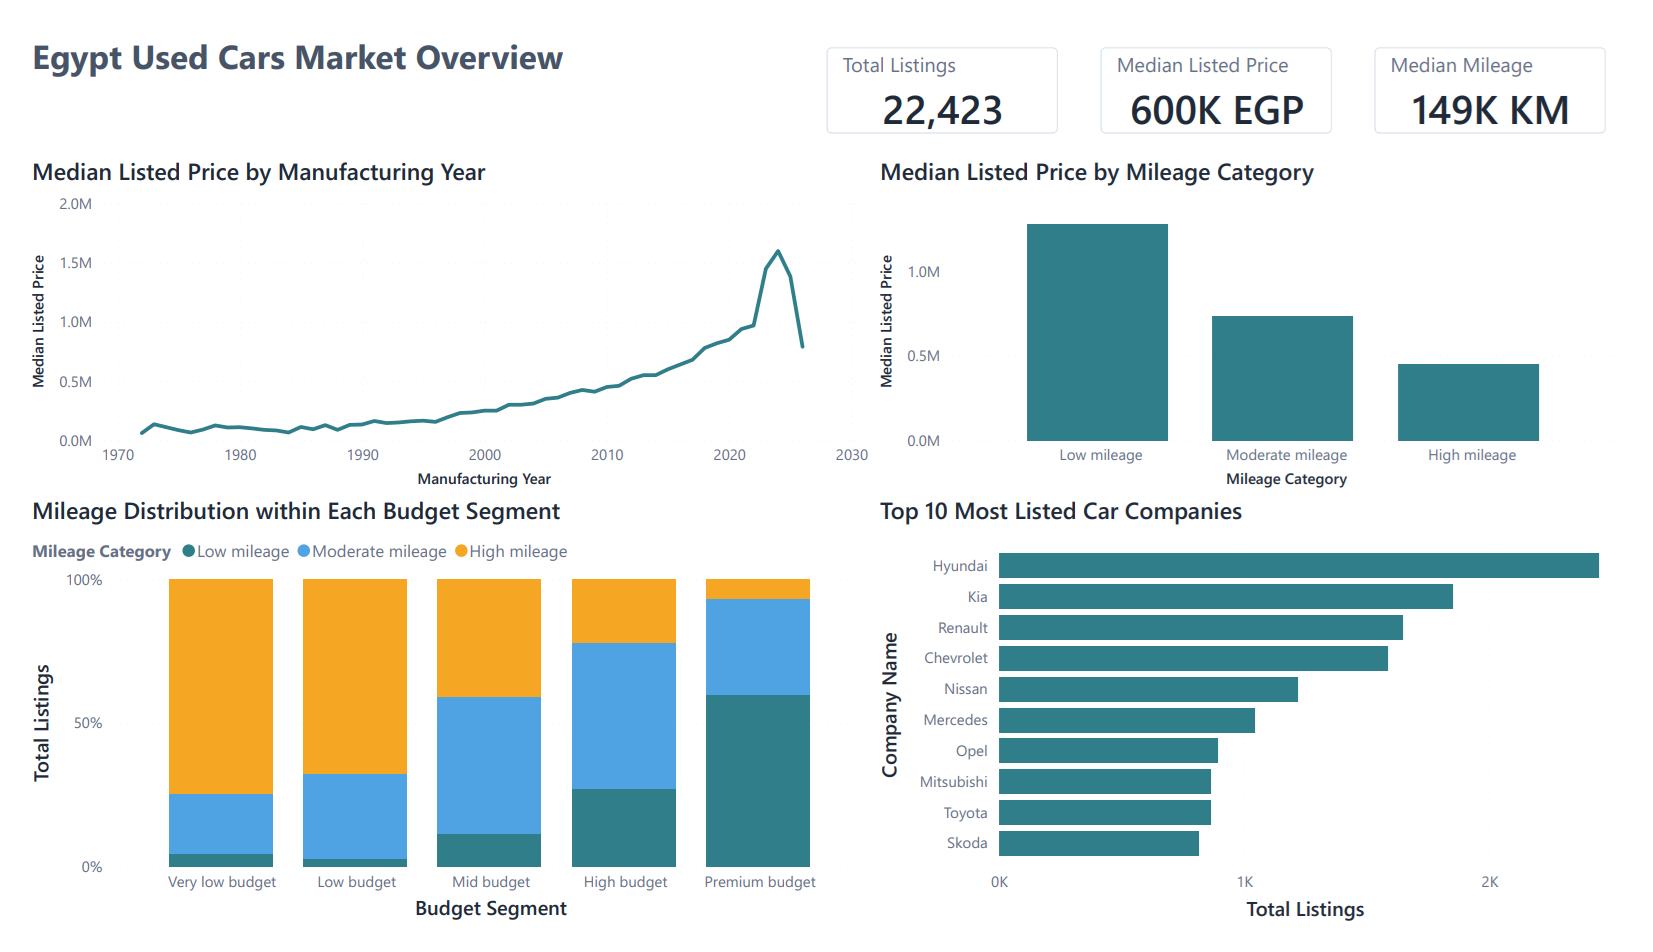

Layout of this report page (visuals, bound fields, positions):
{"tool":"powerbi","page":{"name":"Market Overview","canvas":[1280,720],"ordinal":0},"visuals":[{"type":"cardVisual","fields":{"Data":["_Calculations.Total Listings"]},"box":[623,0,219,103],"z":0},{"type":"cardVisual","fields":{"Data":["_Calculations.Median Listed Price"]},"box":[842,0,219,103],"z":1000},{"type":"cardVisual","fields":{"Data":["_Calculations.Median Mileage"]},"box":[1061,0,219,103],"z":2000},{"type":"group","id":"g1","title":"Group 1","box":[0,103.3,1280,551.7],"z":3000},{"type":"lineChart","title":"Median Listed Price by Manufacturing Year","fields":{"Category":["analysis dim_manufacturing_year.manufacturing_year"],"Y":["Median(analysis fact_listed_car.price_egp)"]},"box":[0,103.3,678.3,271.1],"z":3000,"group":"g1"},{"type":"clusteredColumnChart","title":"Median Listed Price by Mileage Category","fields":{"Category":["analysis dim_mileage_category.mileage_category"],"Y":["Median(analysis fact_listed_car.price_egp)"]},"box":[677.8,103.3,602.2,270.9],"z":4000,"group":"g1"},{"type":"group","id":"g2","title":"Group 2","box":[0,374.4,1280,345.6],"z":4000},{"type":"textbox","box":[0,0,437,65],"z":5000},{"type":"hundredPercentStackedColumnChart","title":"Mileage Distribution within Each Budget Segment","fields":{"Category":["analysis dim_budget_segment.budget_segment"],"Y":["_Calculations.Total Listings"],"Series":["analysis dim_mileage_category.mileage_category"]},"box":[0,374.4,678.1,345.6],"z":5000,"group":"g2"},{"type":"clusteredBarChart","title":"Top 10 Most Listed Car Companies","fields":{"Y":["_Calculations.Total Listings"],"Category":["analysis dim_company.company_name"]},"box":[678.1,374.4,601.9,345.6],"z":6000,"group":"g2"},{"type":"shape","box":[0,384,678,271],"z":6001,"group":"g1"}]}

Visuals, with their boxes in screenshot pixels (x1, y1, x2, y2), scaled from the page's 1280x720 canvas onto the 1653x952 screenshot:
cardVisual - _Calculations.Total Listings: crop(805, 0, 1087, 136)
cardVisual - _Calculations.Median Listed Price: crop(1087, 0, 1370, 136)
cardVisual - _Calculations.Median Mileage: crop(1370, 0, 1652, 136)
"Group 1" group: crop(0, 137, 1652, 866)
"Median Listed Price by Manufacturing Year" lineChart: crop(0, 137, 876, 495)
"Median Listed Price by Mileage Category" clusteredColumnChart: crop(875, 137, 1652, 495)
"Group 2" group: crop(0, 495, 1652, 951)
textbox: crop(0, 0, 564, 86)
"Mileage Distribution within Each Budget Segment" hundredPercentStackedColumnChart: crop(0, 495, 876, 951)
"Top 10 Most Listed Car Companies" clusteredBarChart: crop(876, 495, 1652, 951)
shape: crop(0, 508, 876, 866)
